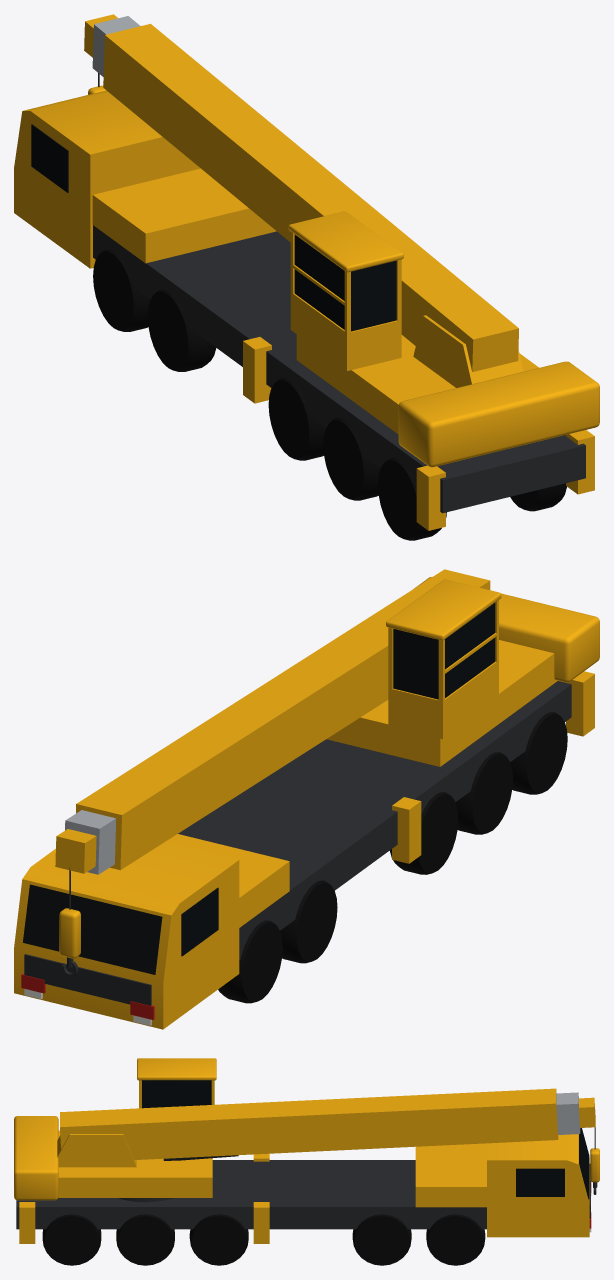
The model's file is plant.lifting.mobile_crane_5_axle_stowed.glb.
The picture shows the model from 3 angles, top to bottom: view 1: azimuth 30°, elevation 25°; view 2: azimuth 150°, elevation 25°; view 3: azimuth 270°, elevation 25°; orthographic projection. The views are drawn at different scales.
Parts seen in each view (by area): view 1: upper__plant_yellow, boom__plant_yellow, carrier__plant_yellow, carrier__steel_dark, wheels__rubber, upper__glass_dark, outriggers__plant_yellow, carrier__glass_dark, boom__steel_galvanised; view 2: carrier__steel_dark, boom__plant_yellow, carrier__plant_yellow, upper__plant_yellow, wheels__rubber, carrier__glass_dark, upper__glass_dark, outriggers__plant_yellow, boom__steel_galvanised, hook__plant_yellow, carrier__hazard_red; view 3: boom__plant_yellow, carrier__steel_dark, upper__plant_yellow, carrier__plant_yellow, wheels__rubber, carrier__glass_dark, upper__glass_dark, outriggers__plant_yellow, boom__steel_galvanised, hook__plant_yellow.
Boxes of the visible parts, left/top/right/bottom form: upper__plant_yellow: left=288, top=211, right=599, bottom=467; boom__plant_yellow: left=84, top=14, right=518, bottom=371; carrier__plant_yellow: left=14, top=90, right=276, bottom=268; carrier__steel_dark: left=93, top=225, right=585, bottom=513; wheels__rubber: left=93, top=249, right=566, bottom=540; upper__glass_dark: left=294, top=234, right=396, bottom=331; outriggers__plant_yellow: left=243, top=337, right=594, bottom=530; carrier__glass_dark: left=31, top=124, right=68, bottom=192; boom__steel_galvanised: left=92, top=16, right=140, bottom=76; carrier__steel_dark: left=24, top=681, right=571, bottom=1005; boom__plant_yellow: left=55, top=569, right=490, bottom=873; carrier__plant_yellow: left=14, top=834, right=289, bottom=1029; upper__plant_yellow: left=326, top=577, right=599, bottom=766; wheels__rubber: left=218, top=712, right=567, bottom=1003; carrier__glass_dark: left=23, top=884, right=218, bottom=974; upper__glass_dark: left=393, top=603, right=495, bottom=699; outriggers__plant_yellow: left=392, top=671, right=594, bottom=863; boom__steel_galvanised: left=65, top=810, right=116, bottom=874; hook__plant_yellow: left=59, top=908, right=80, bottom=958; carrier__hazard_red: left=21, top=974, right=154, bottom=1019; boom__plant_yellow: left=60, top=1088, right=595, bottom=1159; carrier__steel_dark: left=16, top=1160, right=590, bottom=1229; upper__plant_yellow: left=14, top=1058, right=216, bottom=1200; carrier__plant_yellow: left=415, top=1134, right=589, bottom=1237; wheels__rubber: left=42, top=1214, right=485, bottom=1265; carrier__glass_dark: left=516, top=1128, right=589, bottom=1199; upper__glass_dark: left=142, top=1080, right=211, bottom=1108; outriggers__plant_yellow: left=19, top=1153, right=269, bottom=1243; boom__steel_galvanised: left=556, top=1092, right=580, bottom=1134; hook__plant_yellow: left=590, top=1148, right=599, bottom=1182.
Bounding box in the file's own units: 3 × 3.95 × 13.13.
